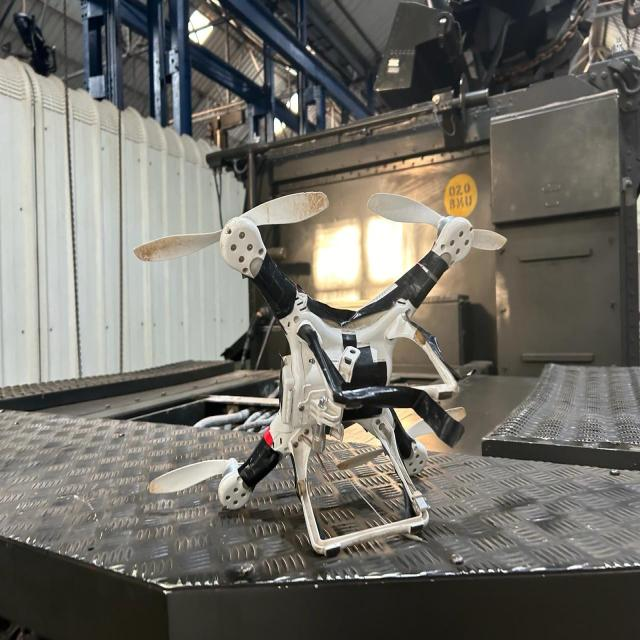drone: (94, 175, 517, 576)
